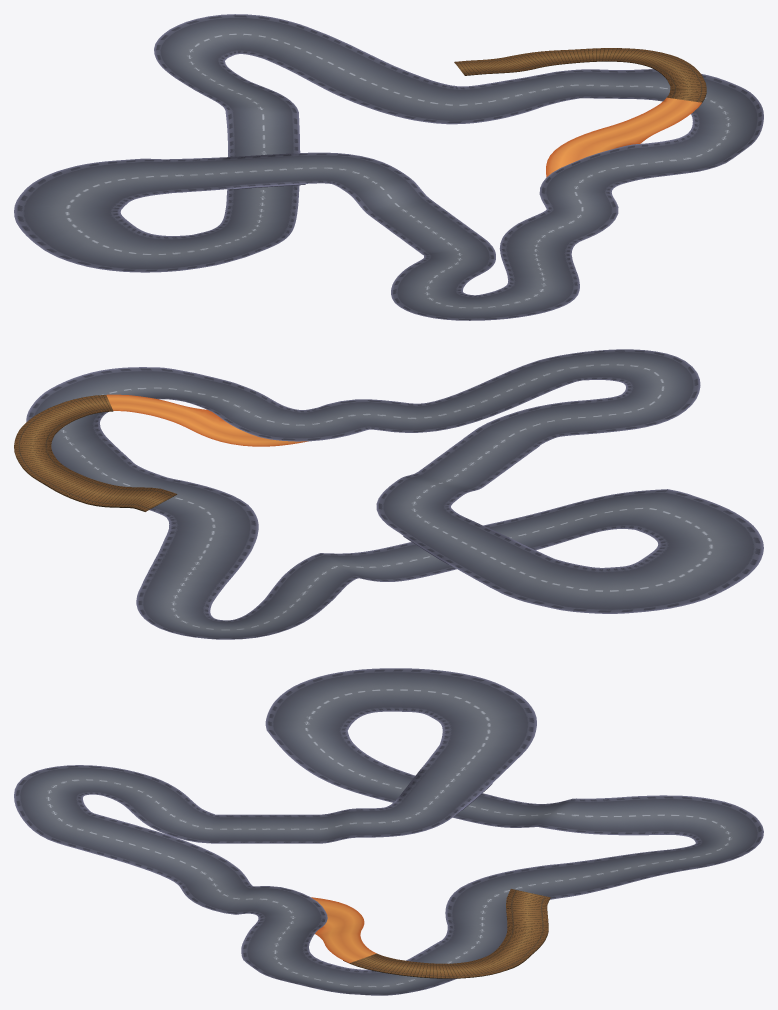
The model's file is Tack1Roads.fbx.
The picture shows the model from 3 angles, top to bottom: view 1: azimuth 30°, elevation 25°; view 2: azimuth 150°, elevation 25°; view 3: azimuth 270°, elevation 25°; orthographic projection. The views are drawn at different scales.
Visible parts, largest first — view 1: Road1, Road2; view 2: Road1, Road2; view 3: Road1, Road2.
Boxes of the visible parts, x1=… form: Road1: x1=14, y1=14, x2=763, y2=320; Road2: x1=454, y1=48, x2=706, y2=177; Road1: x1=26, y1=349, x2=763, y2=639; Road2: x1=14, y1=394, x2=308, y2=511; Road1: x1=14, y1=668, x2=763, y2=995; Road2: x1=311, y1=889, x2=550, y2=978.
Bounding box in the file's own units: 33062 × 1158 × 32297.
